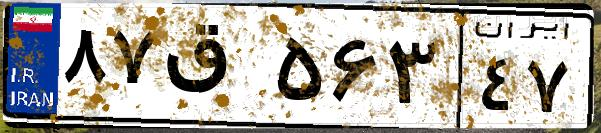3: (385, 28, 445, 110)
4: (475, 38, 525, 113)
5: (270, 28, 330, 110)
6: (330, 28, 385, 110)
7: (525, 38, 570, 115), (110, 28, 158, 98)
8: (57, 26, 110, 100)
ق: (158, 20, 270, 120)
